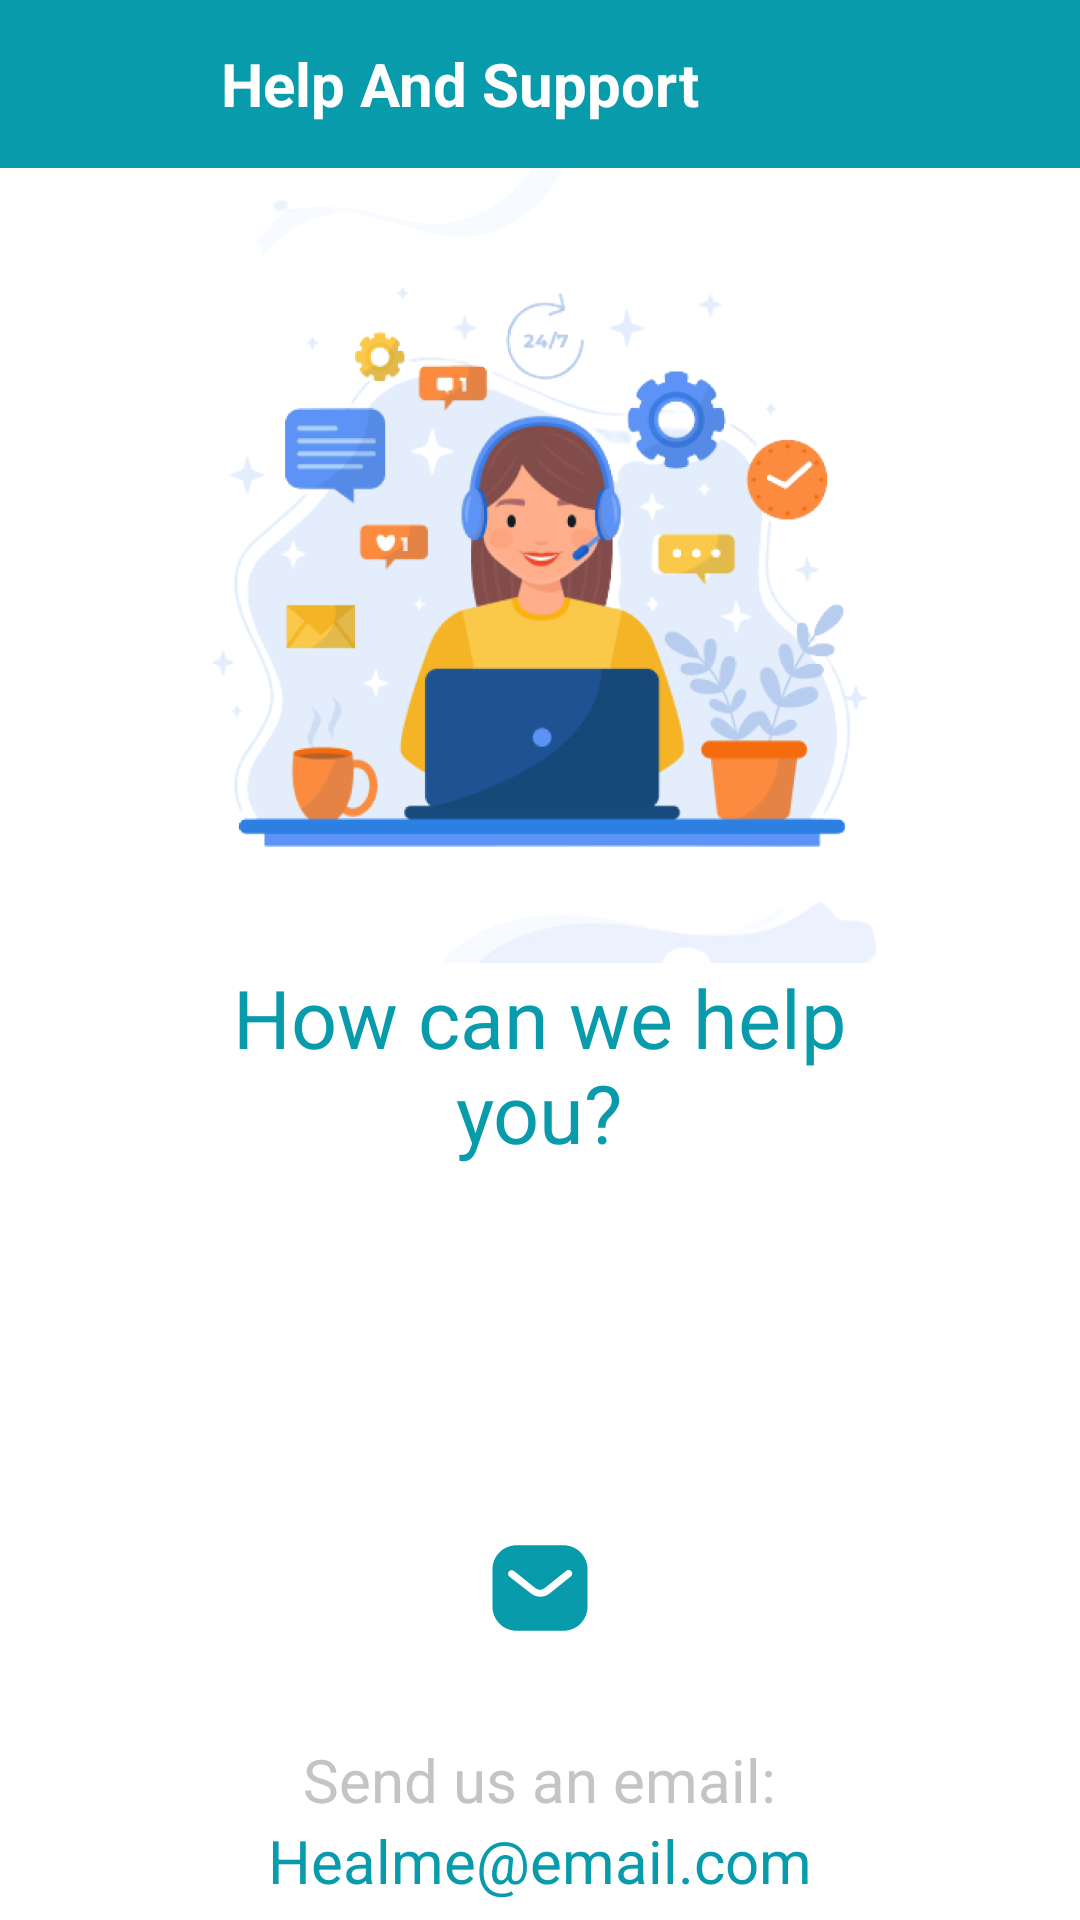

Named icons in this screenshot (1080 × 1920) and their bounding boxes, (x1, y1, x2, y2):
message: (492, 1545, 588, 1631)
